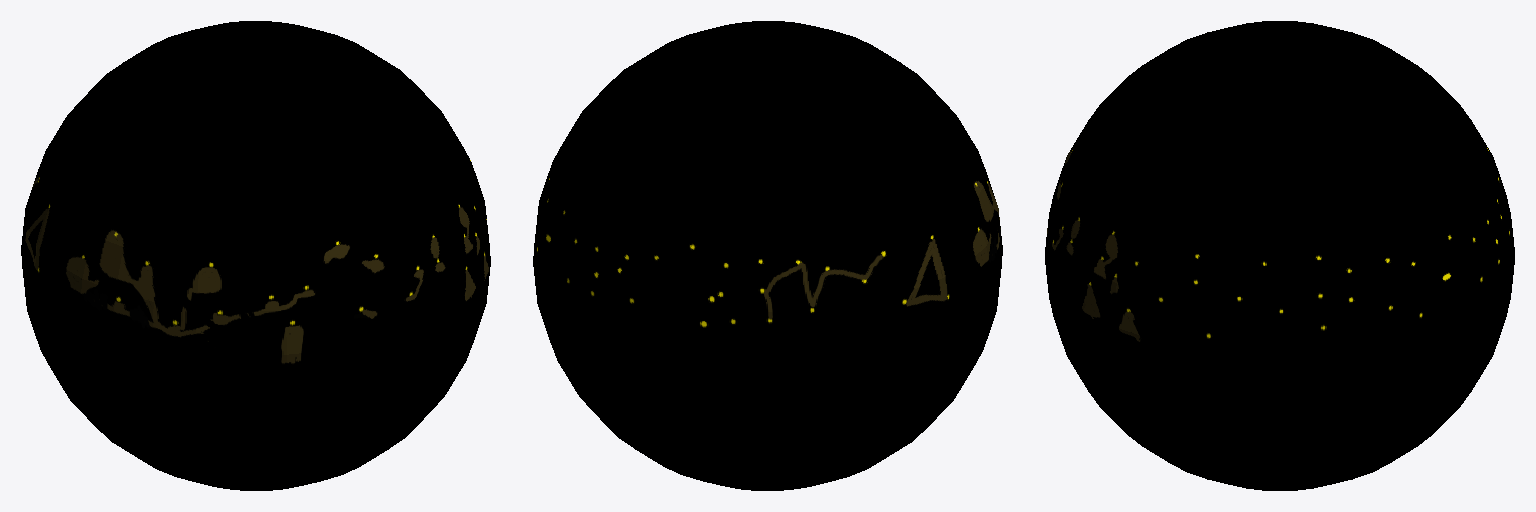
The picture shows the model from 3 angles: view 1: azimuth 30°, elevation 25°; view 2: azimuth 150°, elevation 25°; view 3: azimuth 270°, elevation 25°; orthographic projection.
Parts seen in each view (by area): view 1: 球.001; view 2: 球.001; view 3: 球.001.
Boxes of the visible parts, x1,y1,x2,y2 form: 球.001: [21, 21, 490, 490]; 球.001: [533, 21, 1002, 490]; 球.001: [1045, 21, 1514, 490].
Bounding box in the file's own units: 64 × 64 × 64.
Materials: 2 (1 with a texture image).